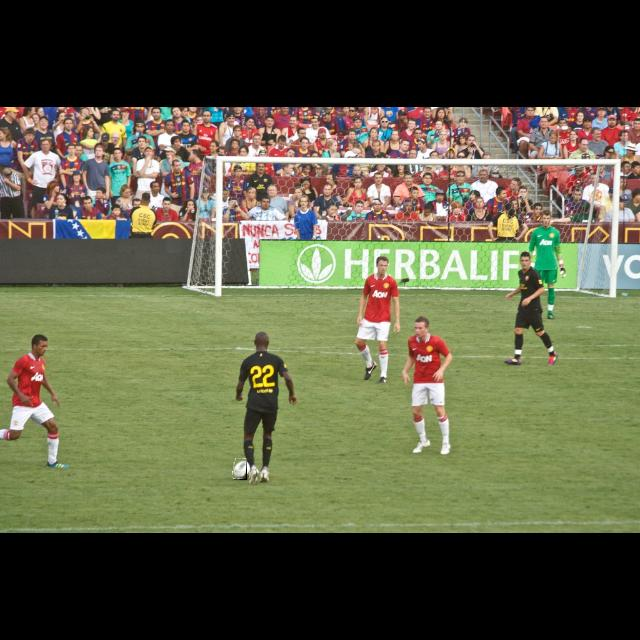Football: (233, 458, 247, 480)
